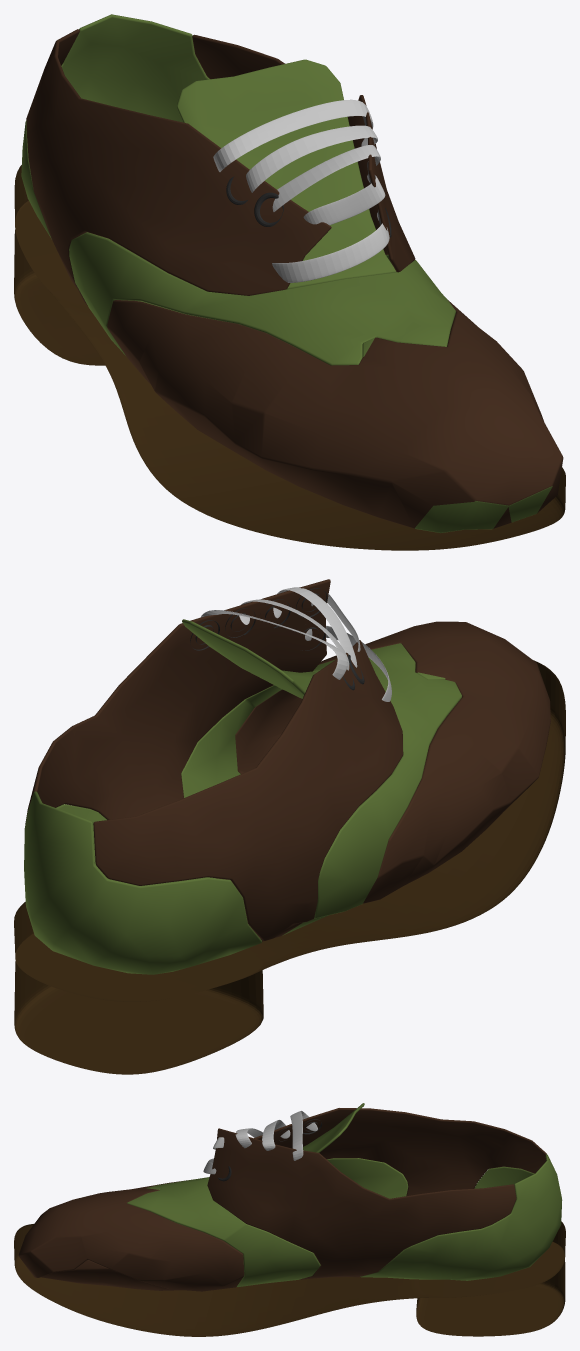
File: za2ve3izquierda.fbx
3 renders of one model, top to bottom at view 1: azimuth 30°, elevation 25°; view 2: azimuth 150°, elevation 25°; view 3: azimuth 270°, elevation 25°, orthographic. The views are drawn at different scales.
Parts seen in each view (by area): view 1: zapato2, Plane, Plane.004, Plane.005, Plane.003, Plane.001, Plane.002; view 2: zapato2, Plane, Plane.001, Plane.004; view 3: zapato2, Plane, Plane.004, Plane.003, Plane.001.
Boxes of the visible parts, box(x1,y1,x2,y2) form: zapato2: box(21, 14, 563, 532); Plane: box(14, 165, 565, 550); Plane.004: box(213, 99, 373, 171); Plane.005: box(272, 212, 389, 282); Plane.003: box(246, 125, 377, 192); Plane.001: box(272, 145, 380, 211); Plane.002: box(303, 174, 385, 225); zapato2: box(24, 579, 550, 974); Plane: box(14, 660, 565, 1074); Plane.001: box(273, 587, 357, 667); Plane.004: box(200, 610, 347, 679); zapato2: box(18, 1103, 562, 1291); Plane: box(14, 1221, 565, 1336); Plane.004: box(290, 1110, 317, 1160); Plane.003: box(262, 1119, 290, 1150); Plane.001: box(235, 1128, 262, 1148).
Size of the model in its own units: 169 by 176 by 447.
